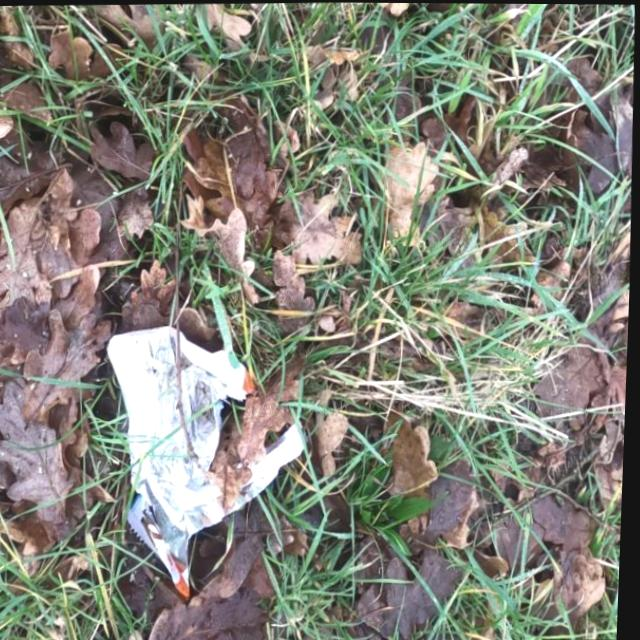Plastic: (98, 320, 316, 605)
